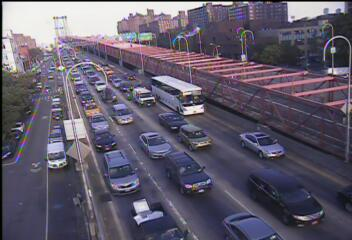neg: (281, 85, 317, 134), (143, 111, 177, 157), (35, 120, 65, 160), (192, 80, 221, 118), (247, 36, 274, 73), (42, 45, 69, 80), (223, 169, 249, 203), (255, 135, 280, 168), (99, 162, 123, 195), (90, 90, 111, 119), (139, 34, 155, 55), (204, 203, 218, 221), (122, 86, 134, 102)
